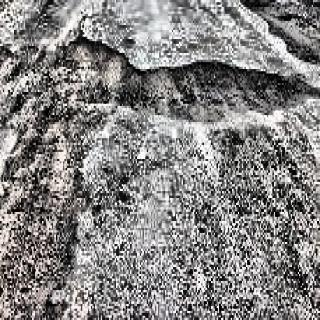pothole: (48, 38, 320, 124), (0, 176, 78, 312)
